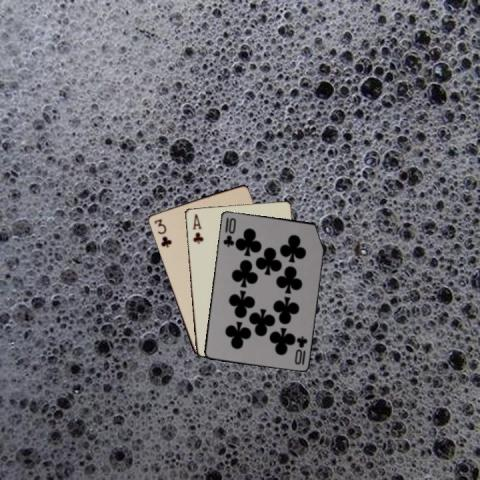10c: (291, 333, 309, 366), (220, 214, 237, 248)
3c: (151, 216, 173, 249)
Ac: (189, 210, 204, 244)
